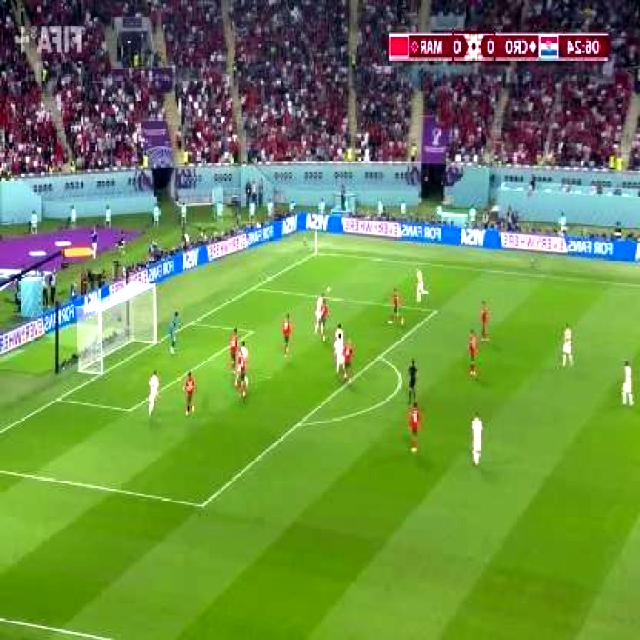bigarea_bottom_inner: (194, 492, 212, 517)
bigarea_top_inner: (429, 300, 445, 320)
bigarea_top_outter: (246, 280, 260, 295)
bottom_arc_area_intersection: (292, 412, 308, 434)
corner: (309, 246, 325, 259)
smallarea_bottom_inner: (122, 397, 138, 420)
smallarea_bottom_outter: (51, 389, 66, 408)
smallarea_top_inner: (246, 322, 260, 340)
smallarea_top_outter: (185, 312, 200, 331)
top_arc_area_intersection: (374, 346, 389, 366)
